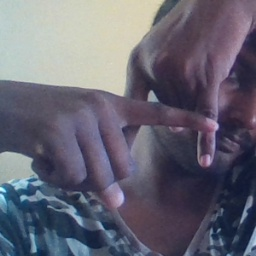H: (100, 58, 236, 178)
